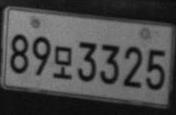2: (123, 45, 142, 88)
3: (100, 43, 120, 85), (77, 41, 96, 82)
5: (145, 48, 165, 90)
8: (9, 33, 29, 74)
9: (31, 36, 51, 76)
모: (52, 45, 72, 79)
